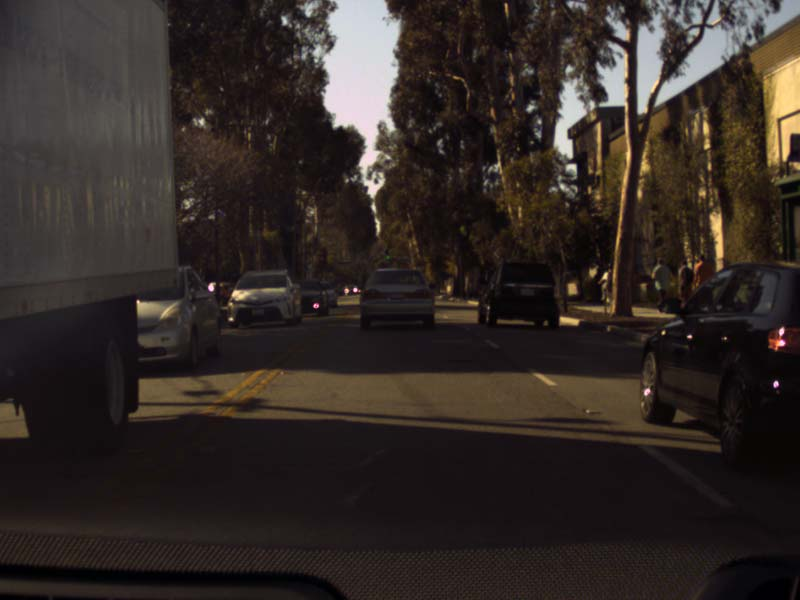Green: (384, 251, 390, 264)
